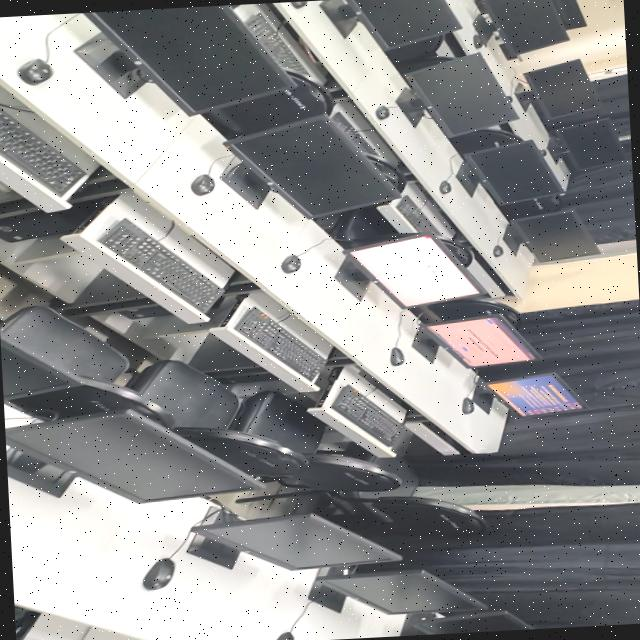Chair: (127, 360, 394, 489), (0, 305, 167, 425), (205, 71, 334, 139), (315, 492, 486, 535), (174, 428, 309, 476), (270, 451, 407, 491), (428, 299, 522, 325), (450, 128, 525, 154), (385, 34, 444, 62), (366, 154, 407, 193), (500, 195, 562, 220), (442, 238, 474, 267)
Keyboard: (98, 217, 223, 313), (0, 106, 86, 195), (234, 306, 325, 380), (332, 385, 403, 446), (245, 12, 310, 74), (390, 196, 450, 238), (332, 111, 381, 157)
Monitor: (5, 409, 258, 502), (83, 4, 293, 115), (227, 114, 399, 218), (188, 507, 400, 570), (397, 53, 518, 137), (350, 235, 479, 306), (316, 567, 487, 614), (417, 314, 537, 368), (465, 140, 563, 206), (347, 0, 462, 52), (474, 0, 569, 58), (508, 209, 600, 262), (519, 59, 600, 119), (1, 338, 77, 400), (486, 372, 586, 415), (548, 118, 624, 173), (402, 609, 538, 636), (554, 0, 587, 29)
Mouse: (143, 557, 175, 589), (19, 58, 53, 84), (191, 173, 215, 195), (282, 254, 301, 273), (391, 347, 405, 365), (376, 105, 391, 119), (463, 397, 475, 413), (440, 180, 452, 193), (277, 631, 294, 640), (291, 0, 307, 8), (494, 244, 503, 257)
